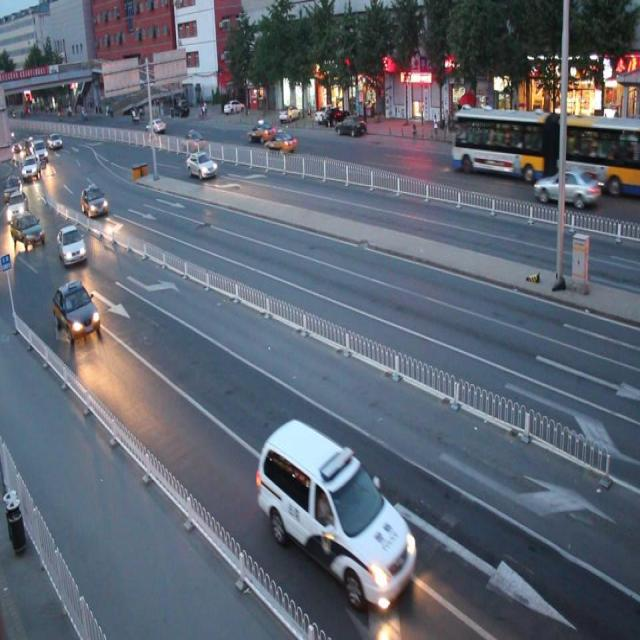car: (257, 418, 414, 607), (54, 278, 101, 342), (534, 170, 596, 210), (186, 149, 215, 180), (266, 131, 297, 152), (247, 120, 275, 143)
van: (450, 103, 640, 191)
